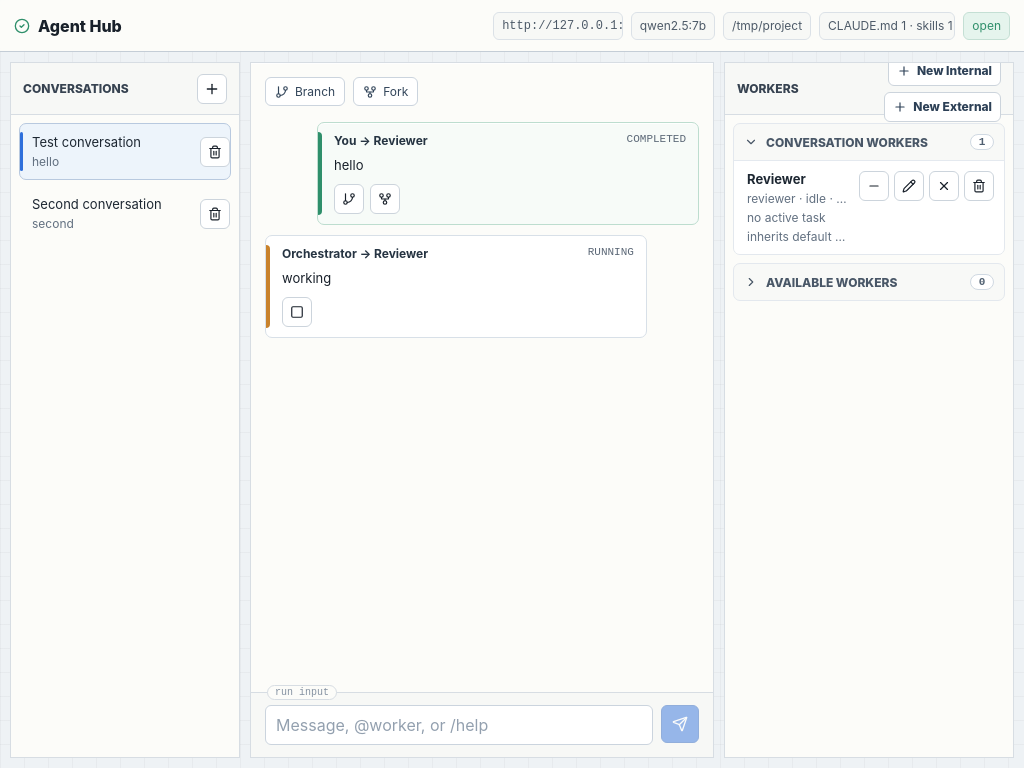
Agent Hub app › switches conversations and loads the selected message history
Click the text "Second conversation". click: (97, 204)
box: x1=32 y1=196 x2=162 y2=212
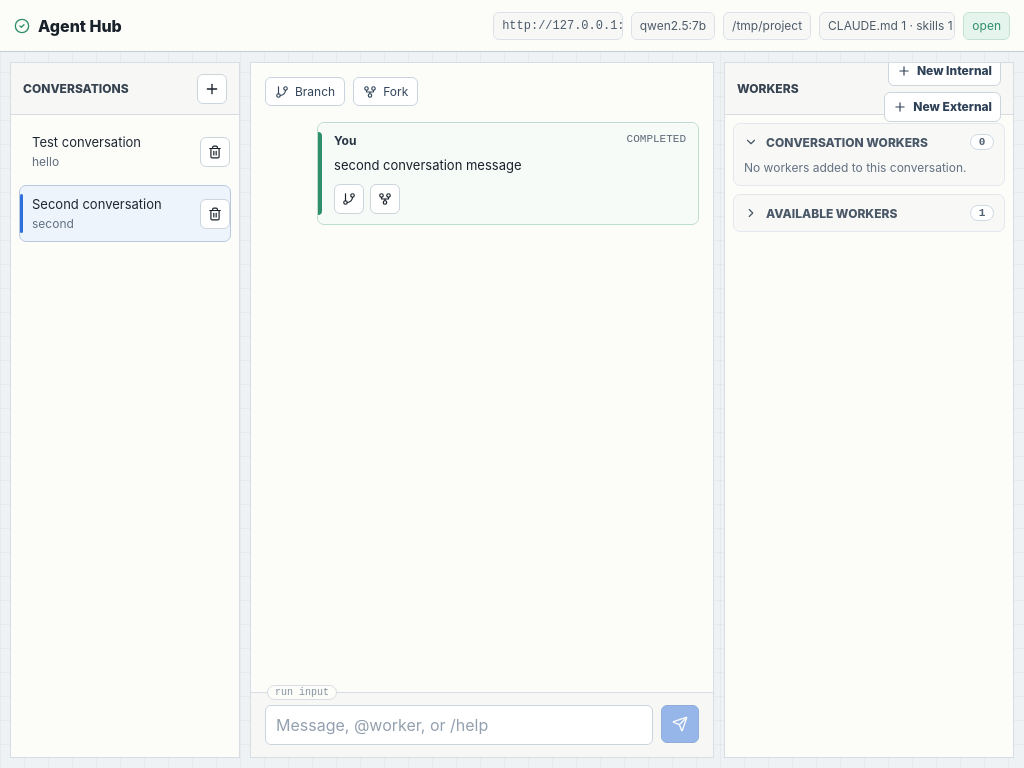
Expected: the text "second conversation message" is shown, x1=334 y1=157 x2=522 y2=173
